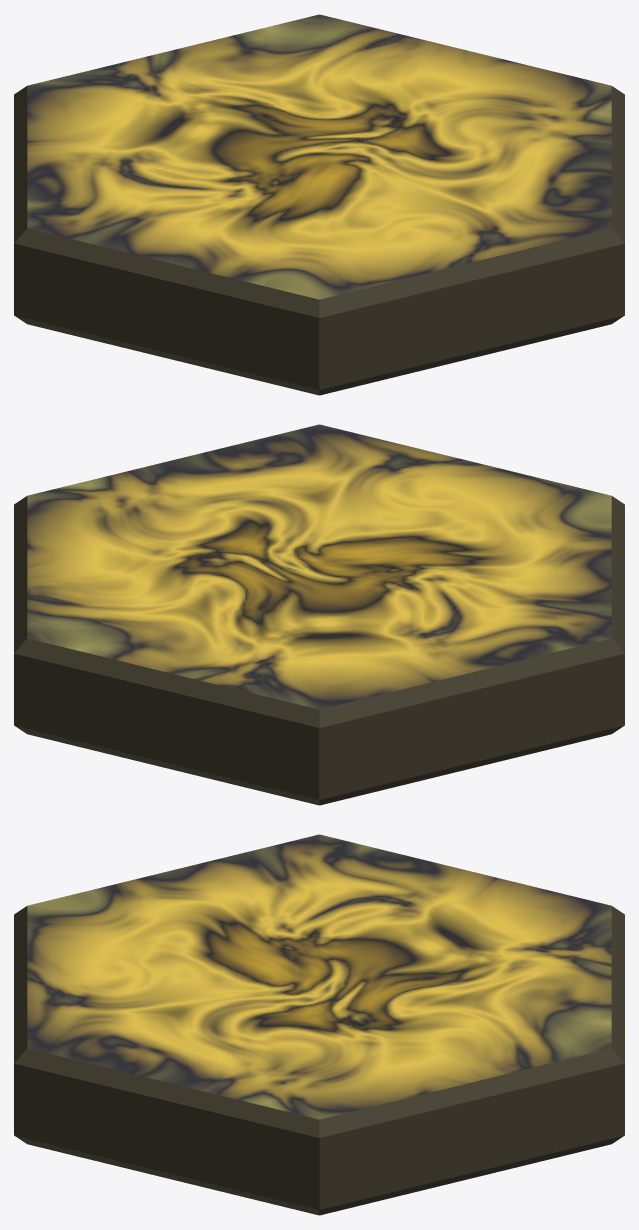
File: gold_tile.glb
3 views of the same model, one above another, from view 1: azimuth 30°, elevation 25°; view 2: azimuth 150°, elevation 25°; view 3: azimuth 270°, elevation 25° (orthographic).
Visible parts, largest first — view 1: GoldTileBaked; view 2: GoldTileBaked; view 3: GoldTileBaked.
Boxes of the visible parts, box(x1,y1,x2,y2) form: GoldTileBaked: box(14, 14, 624, 395); GoldTileBaked: box(14, 424, 624, 805); GoldTileBaked: box(14, 834, 624, 1215).
Bounding box in the file's own units: 2 × 0.3 × 1.73.
1 material, 1 textured.
